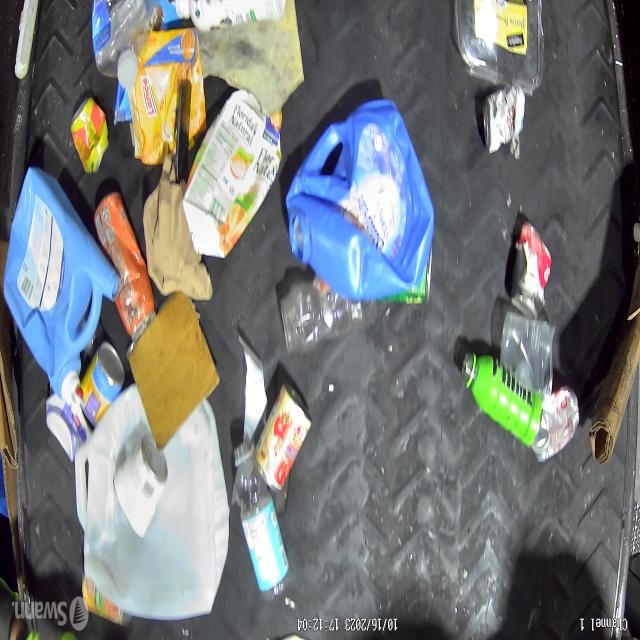can: (251, 382, 313, 495), (111, 435, 168, 539), (79, 342, 126, 428), (532, 386, 580, 465), (515, 217, 551, 321), (70, 96, 110, 175), (483, 91, 525, 149)
milk_jug: (75, 406, 228, 613)
non_white_jug: (284, 102, 432, 308), (6, 189, 107, 413), (182, 89, 284, 260)
plastic_bottle: (230, 439, 294, 602), (92, 0, 156, 91)
